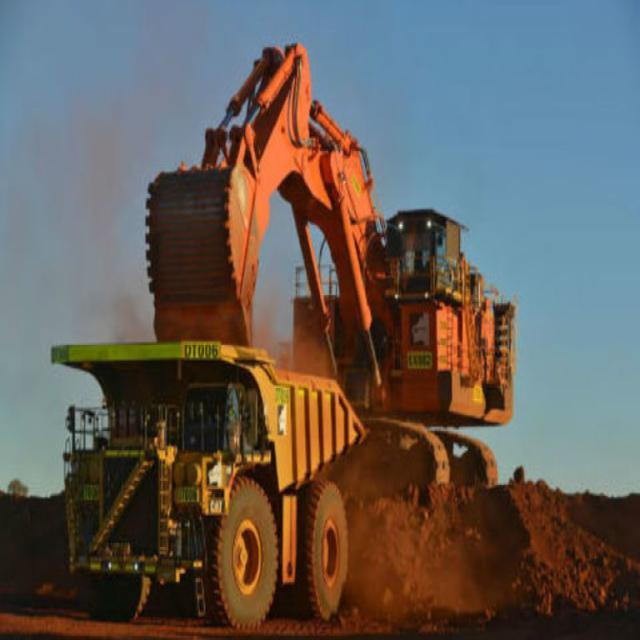dump_truck: (45, 320, 361, 618)
excavator: (119, 21, 532, 518)
